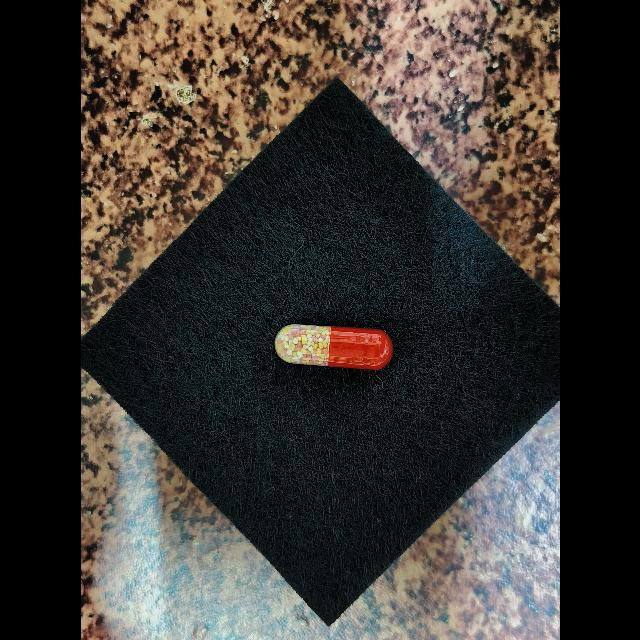Intact Capsule: (274, 324, 392, 369)
